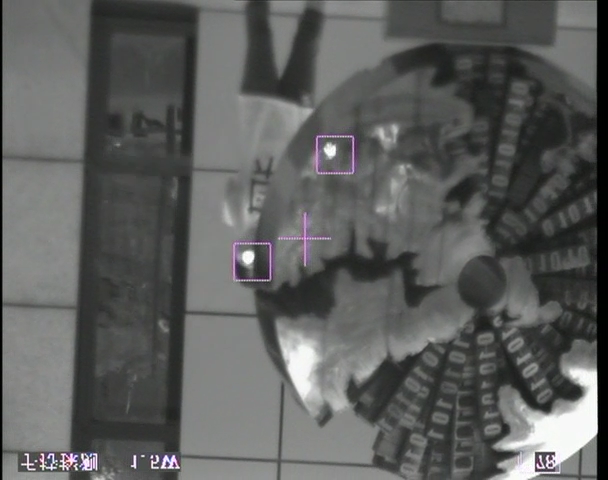my: (240, 248, 255, 265)
